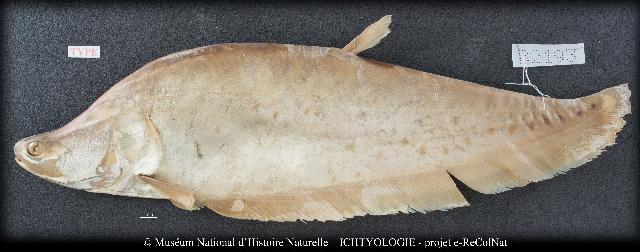Mulut: (12, 128, 66, 190)
Sirip Dada: (133, 168, 203, 222)
Sirip Punggung: (341, 13, 404, 65)
